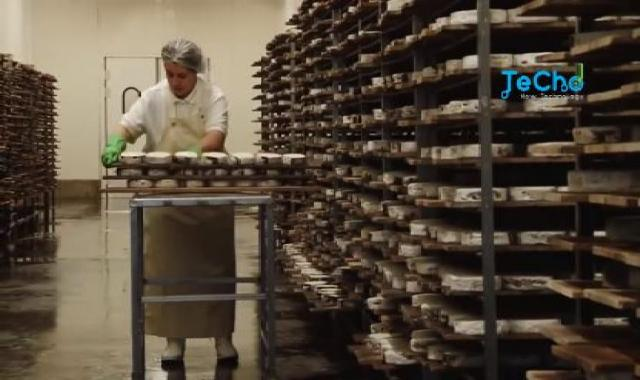hairnet: (150, 36, 212, 76)
